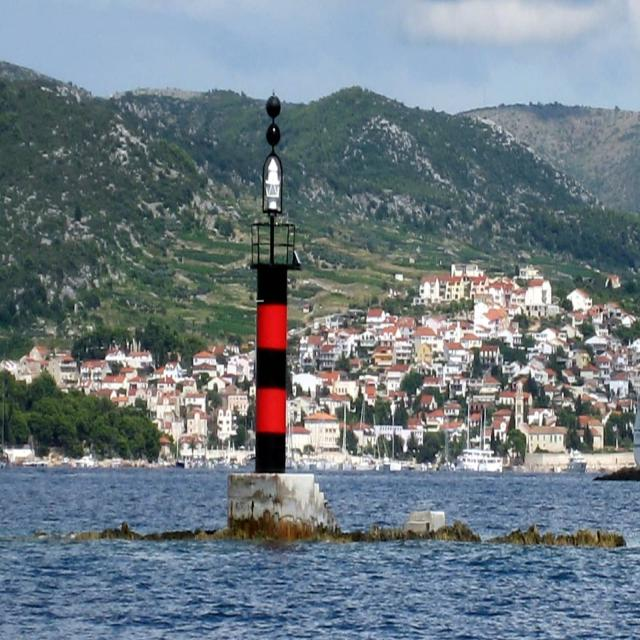2.3 isolated danger mark: (208, 62, 329, 548)
